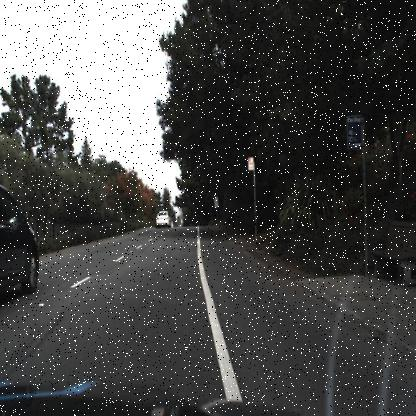car: (0, 178, 42, 312), (154, 210, 174, 233)
